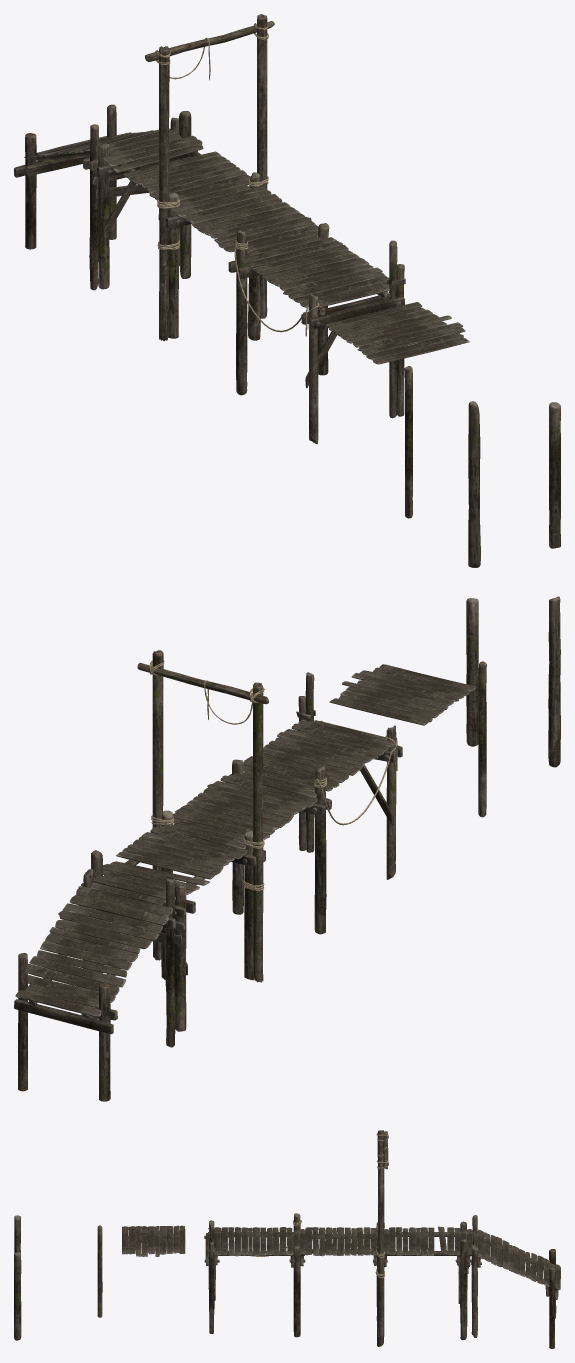
The model's file is modular_wooden_pier.glb.
The picture shows the model from 3 angles, top to bottom: view 1: azimuth 30°, elevation 25°; view 2: azimuth 150°, elevation 25°; view 3: azimuth 270°, elevation 25°; orthographic projection. The views are drawn at different scales.
Visible parts, largest first — view 1: modular_wooden_pier_section_01, modular_wooden_pier_section_03, modular_wooden_pier_section_02, modular_wooden_pier_section_05, modular_wooden_pier_section_04, modular_wooden_pier_planks, modular_wooden_pier_poles; view 2: modular_wooden_pier_section_04, modular_wooden_pier_section_01, modular_wooden_pier_section_03, modular_wooden_pier_section_02, modular_wooden_pier_section_05, modular_wooden_pier_poles, modular_wooden_pier_planks; view 3: modular_wooden_pier_section_01, modular_wooden_pier_section_04, modular_wooden_pier_section_03, modular_wooden_pier_section_02, modular_wooden_pier_planks, modular_wooden_pier_section_05, modular_wooden_pier_poles.
Part boxes in pixels (left/top/right/bottom): modular_wooden_pier_section_01: left=228, top=223, right=405, bottom=444; modular_wooden_pier_section_03: left=89, top=111, right=250, bottom=289; modular_wooden_pier_section_02: left=158, top=172, right=318, bottom=340; modular_wooden_pier_section_05: left=145, top=14, right=274, bottom=341; modular_wooden_pier_section_04: left=14, top=104, right=179, bottom=290; modular_wooden_pier_planks: left=325, top=302, right=469, bottom=364; modular_wooden_pier_poles: left=404, top=366, right=560, bottom=567; modular_wooden_pier_section_04: left=14, top=868, right=175, bottom=1101; modular_wooden_pier_section_01: left=229, top=672, right=402, bottom=934; modular_wooden_pier_section_03: left=81, top=827, right=247, bottom=1031; modular_wooden_pier_section_02: left=160, top=775, right=317, bottom=980; modular_wooden_pier_section_05: left=137, top=650, right=268, bottom=982; modular_wooden_pier_poles: left=466, top=596, right=560, bottom=817; modular_wooden_pier_planks: left=329, top=664, right=476, bottom=725; modular_wooden_pier_section_01: left=204, top=1213, right=305, bottom=1337; modular_wooden_pier_section_04: left=471, top=1215, right=560, bottom=1348; modular_wooden_pier_section_03: left=376, top=1221, right=473, bottom=1340; modular_wooden_pier_section_02: left=292, top=1222, right=389, bottom=1346; modular_wooden_pier_planks: left=122, top=1225, right=185, bottom=1256; modular_wooden_pier_section_05: left=375, top=1130, right=388, bottom=1337; modular_wooden_pier_poles: left=14, top=1215, right=102, bottom=1340.
Bounding box in the file's own units: 3.1 × 7.52 × 19.03.
Materials: 2 (2 with a texture image).
